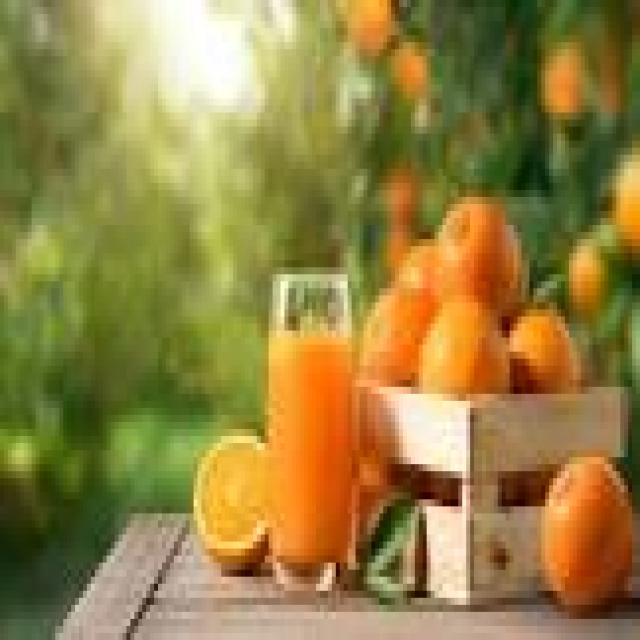orange: (541, 454, 632, 607), (192, 434, 270, 572), (439, 196, 521, 314), (419, 294, 509, 394), (360, 285, 438, 383), (510, 309, 575, 392)
